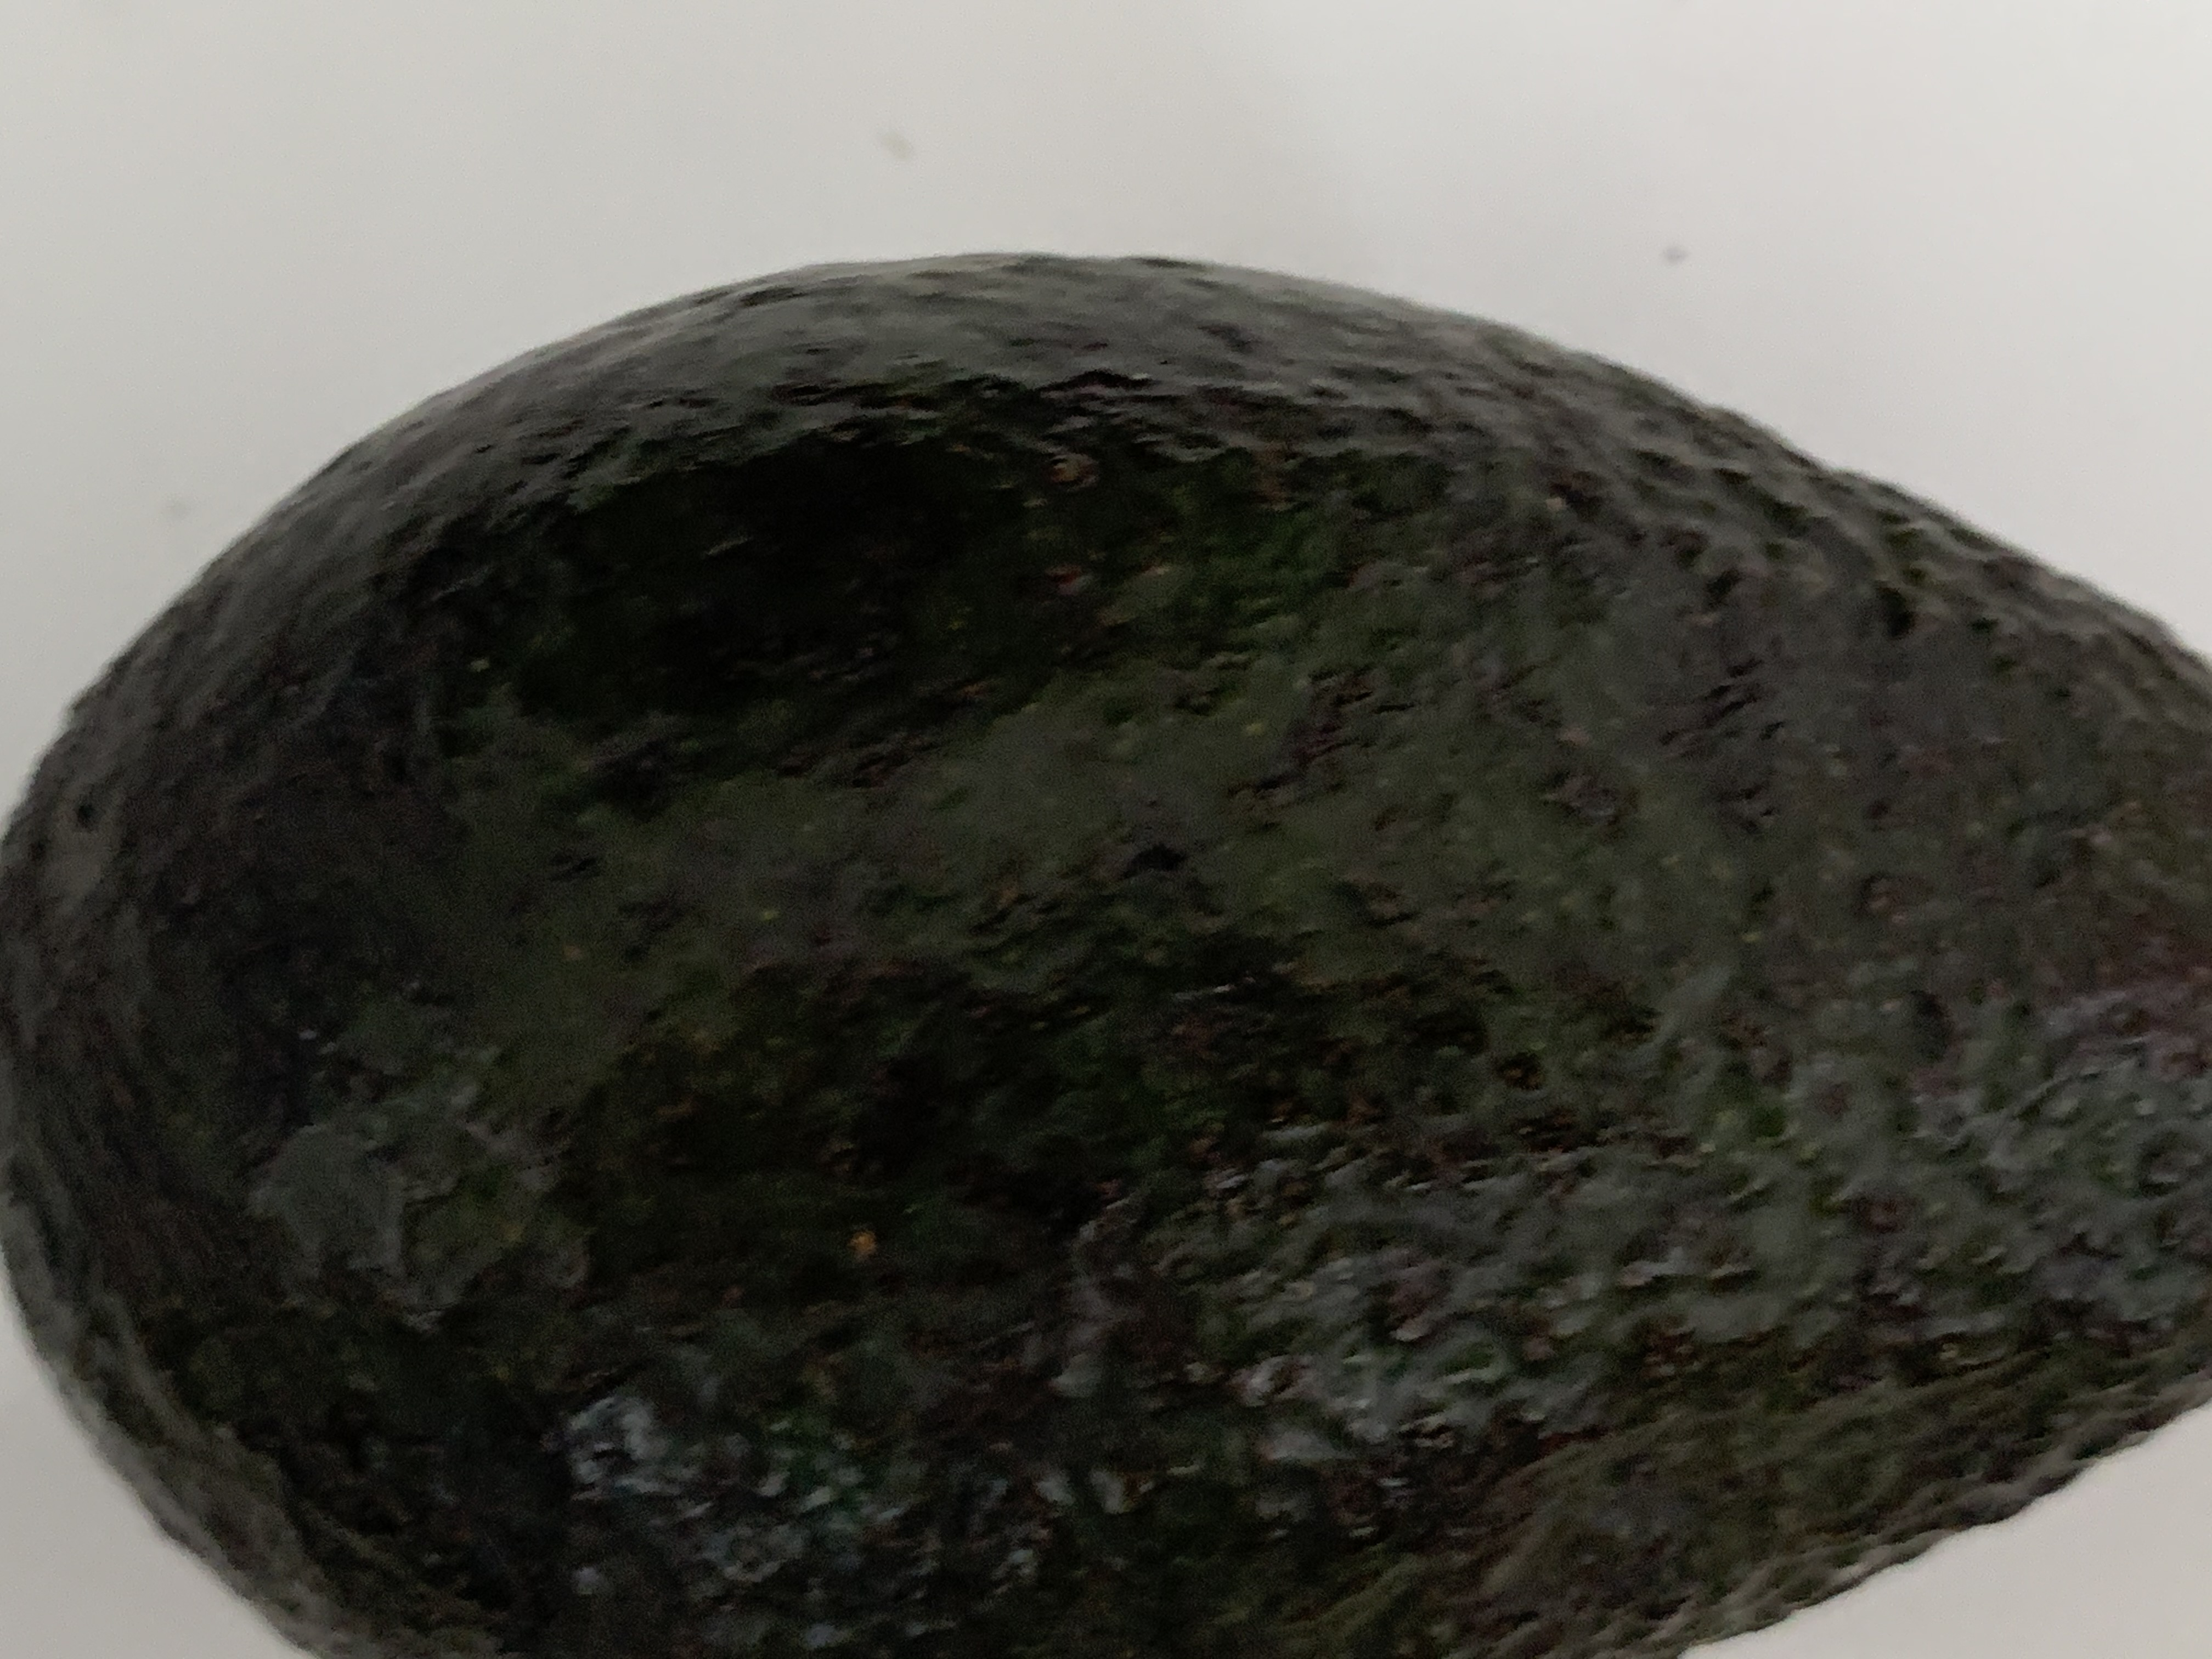avocado: (23, 249, 2212, 1652)
